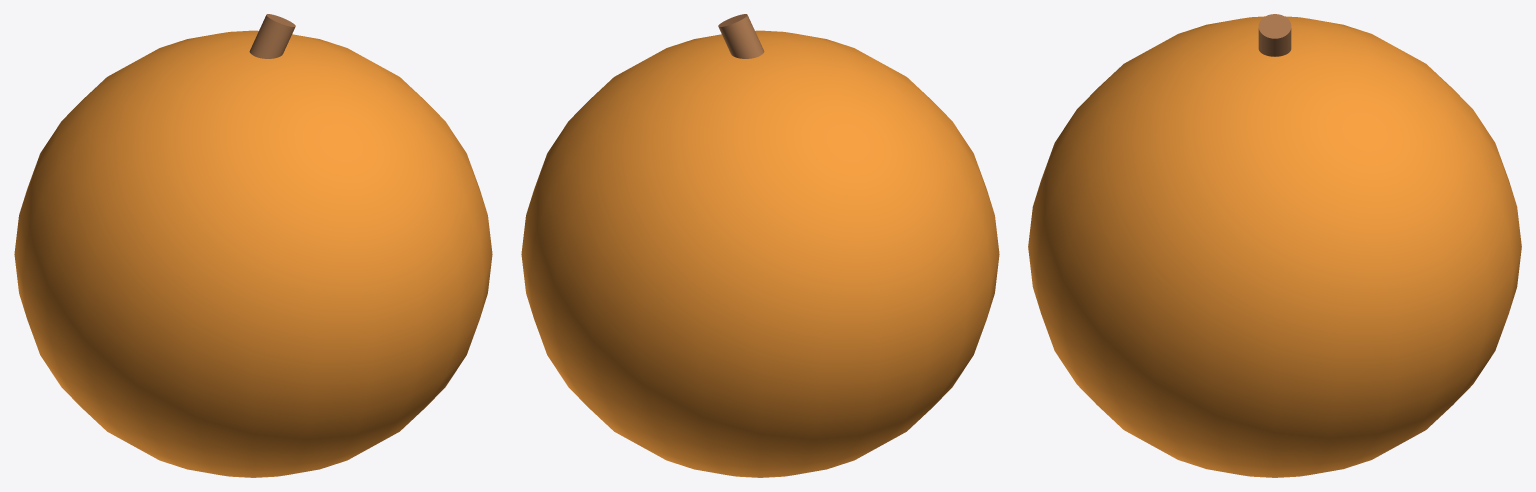
Rendered from wp-abricot.glb.
3 renders of one model, left to right at view 1: azimuth 30°, elevation 25°; view 2: azimuth 150°, elevation 25°; view 3: azimuth 270°, elevation 25°, orthographic. The views are drawn at different scales.
Visible parts, largest first — view 1: wp-abricot; view 2: wp-abricot; view 3: wp-abricot.
Part boxes in pixels (<box>): wp-abricot: <box>14,14,492,477</box>; wp-abricot: <box>521,14,999,477</box>; wp-abricot: <box>1028,14,1521,477</box>.
Size of the model in its own units: 0.065 by 0.065 by 0.065.
